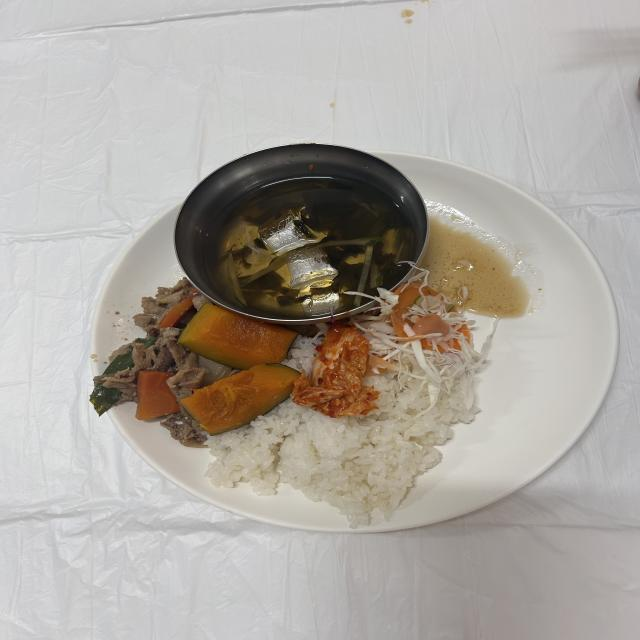bulgogi: (102, 284, 253, 456)
kimchi: (304, 322, 365, 412)
plate: (97, 146, 621, 536)
pumpkin: (181, 297, 303, 429)
rice: (216, 332, 483, 518)
salad: (365, 276, 490, 403)
soup: (216, 173, 418, 318)
